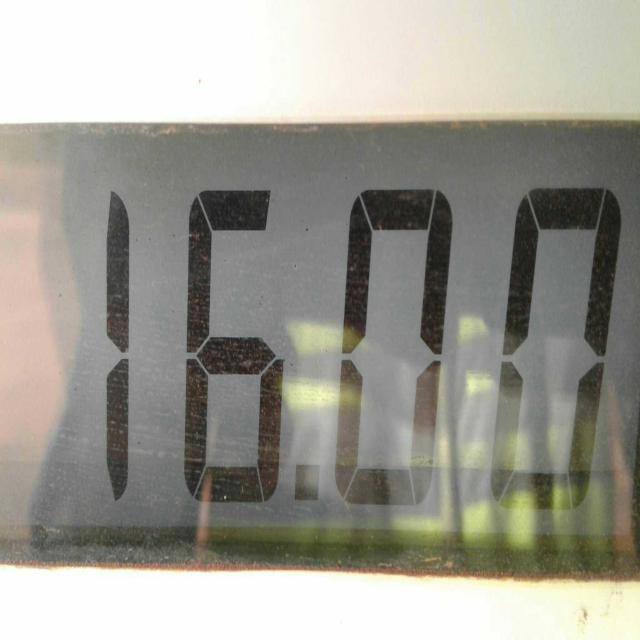.: (278, 446, 334, 532)
0: (316, 163, 479, 524), (488, 165, 620, 528)
1: (80, 178, 155, 518)
6: (168, 168, 292, 513)
